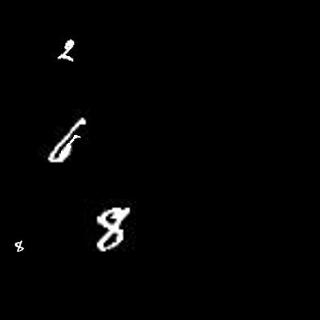eight: (96, 204, 136, 253), (13, 238, 27, 254)
six: (50, 114, 90, 161)
two: (57, 39, 82, 63)
